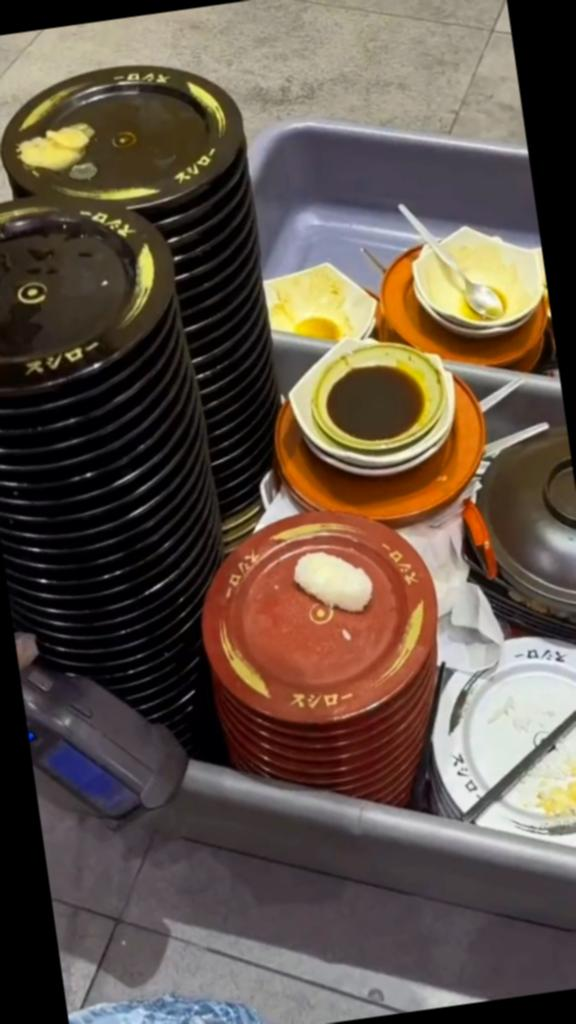Janback: (24, 51, 252, 219), (0, 198, 150, 368), (0, 367, 121, 406), (0, 409, 134, 444), (0, 391, 119, 423), (0, 434, 114, 467), (2, 454, 124, 484), (8, 488, 120, 518), (34, 536, 148, 562), (22, 510, 124, 534), (12, 474, 115, 496), (153, 197, 220, 230), (36, 555, 118, 580), (28, 526, 118, 548), (44, 571, 130, 594), (172, 220, 238, 247), (207, 411, 252, 441), (203, 382, 256, 406), (201, 366, 258, 386), (176, 260, 232, 280), (194, 310, 242, 332), (187, 288, 237, 309), (176, 246, 225, 264), (183, 278, 238, 294), (228, 480, 260, 506), (224, 469, 265, 489), (214, 440, 254, 460), (218, 454, 256, 475), (206, 402, 256, 417), (210, 433, 257, 445), (192, 349, 230, 363), (196, 333, 232, 346)
Janred: (230, 520, 430, 704), (273, 714, 387, 744), (290, 744, 387, 766), (284, 732, 382, 752), (297, 761, 376, 776), (326, 766, 392, 780), (342, 774, 392, 790), (357, 781, 403, 797)
